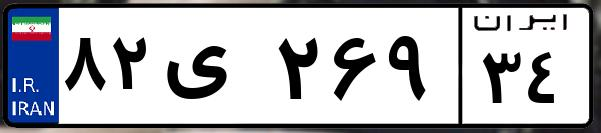2: (270, 28, 330, 110), (110, 28, 158, 98)
3: (475, 38, 525, 113)
4: (525, 38, 570, 115)
6: (330, 28, 385, 110)
8: (57, 26, 110, 100)
9: (385, 28, 445, 110)
ی: (158, 20, 270, 120)
